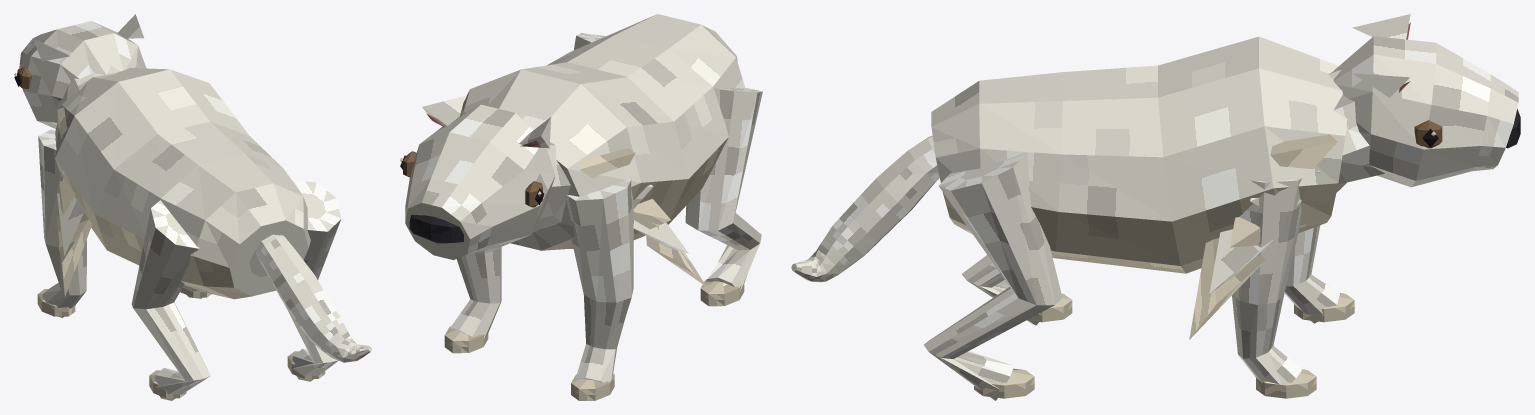
File: mon_dog_gpyrenees_pup.glb
The picture shows the model from 3 angles, left to right: view 1: azimuth 30°, elevation 25°; view 2: azimuth 150°, elevation 25°; view 3: azimuth 270°, elevation 25°; orthographic projection. The views are drawn at different scales.
Visible parts, largest first — view 1: closed_body; view 2: closed_body; view 3: closed_body.
Part boxes in pixels (bbox=[...]): closed_body: bbox=[14, 14, 371, 400]; closed_body: bbox=[400, 14, 762, 400]; closed_body: bbox=[791, 14, 1520, 400].
Size of the model in its own units: 0.1493 by 0.1674 by 0.3491.
Materials: 1 (1 with a texture image).
